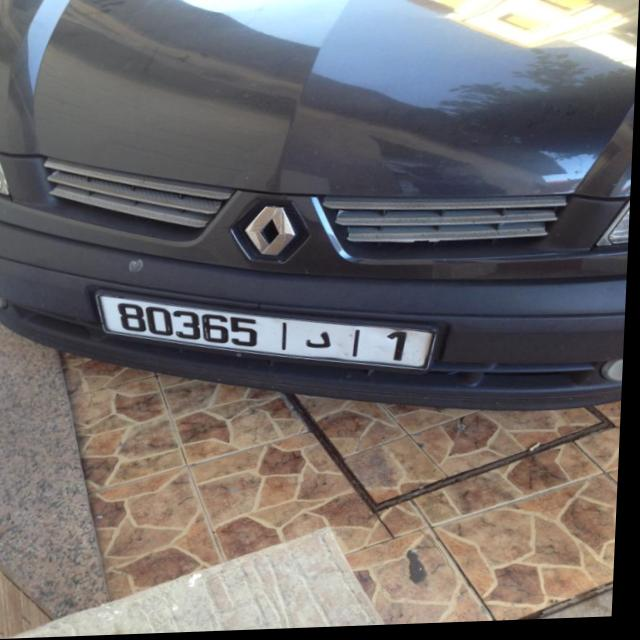License-Plate: (100, 294, 438, 373)
